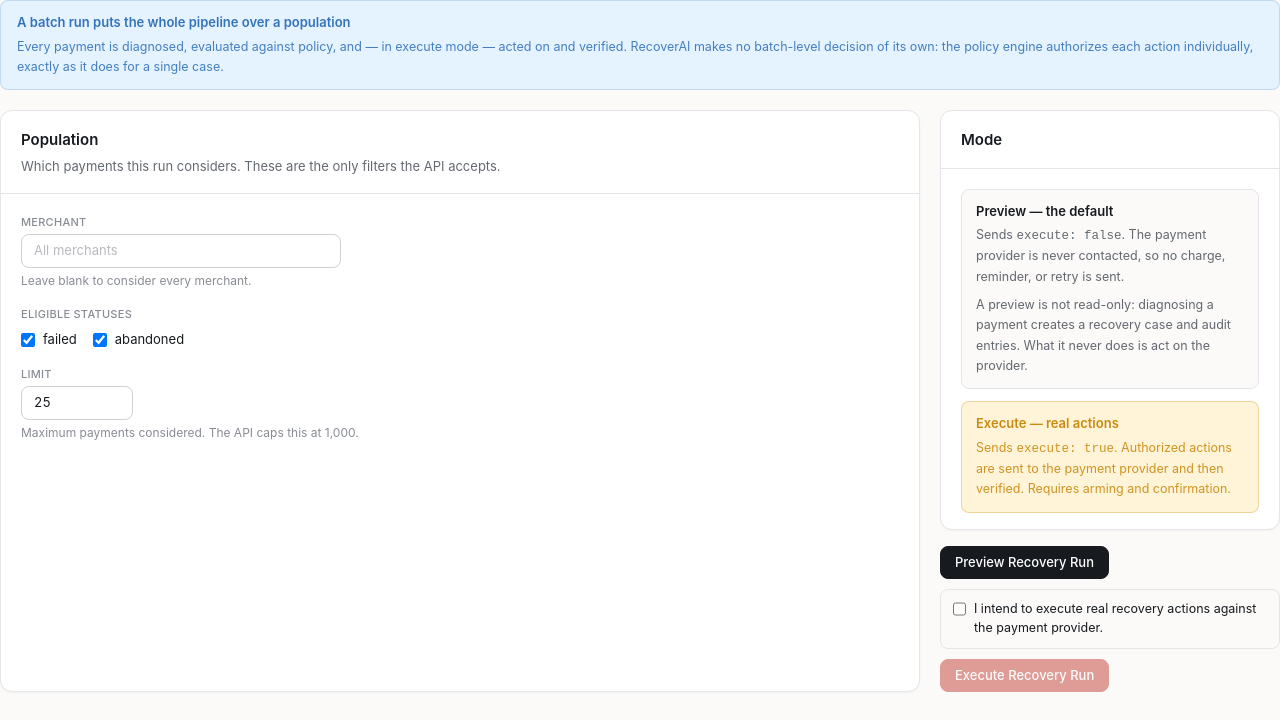
Scenario: Batch Recovery — execute requires explicit confirmation › arming alone does not execute; a confirmation dialog is required
Click the checkbox labelled "intend to execute". click: (960, 609)
box: left=953, top=602, right=966, bottom=616
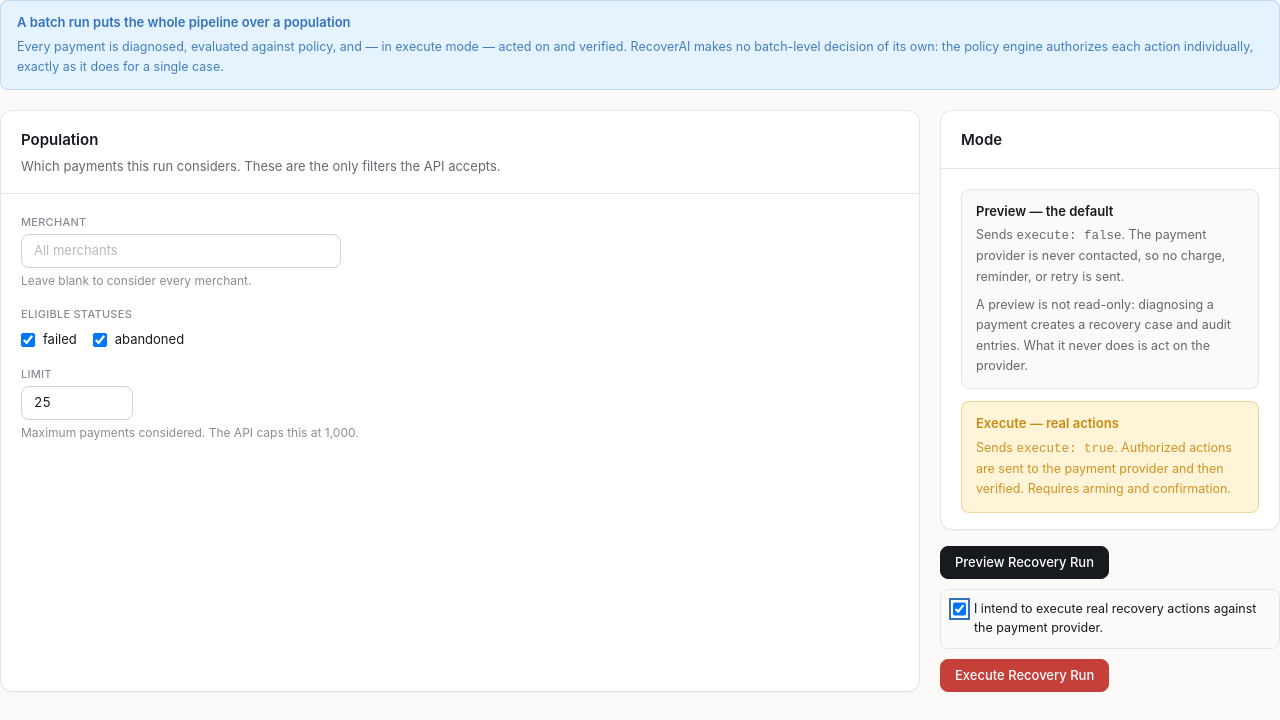
Click the button "Execute Recovery Run". click: (1025, 676)
box: left=940, top=659, right=1109, bottom=692
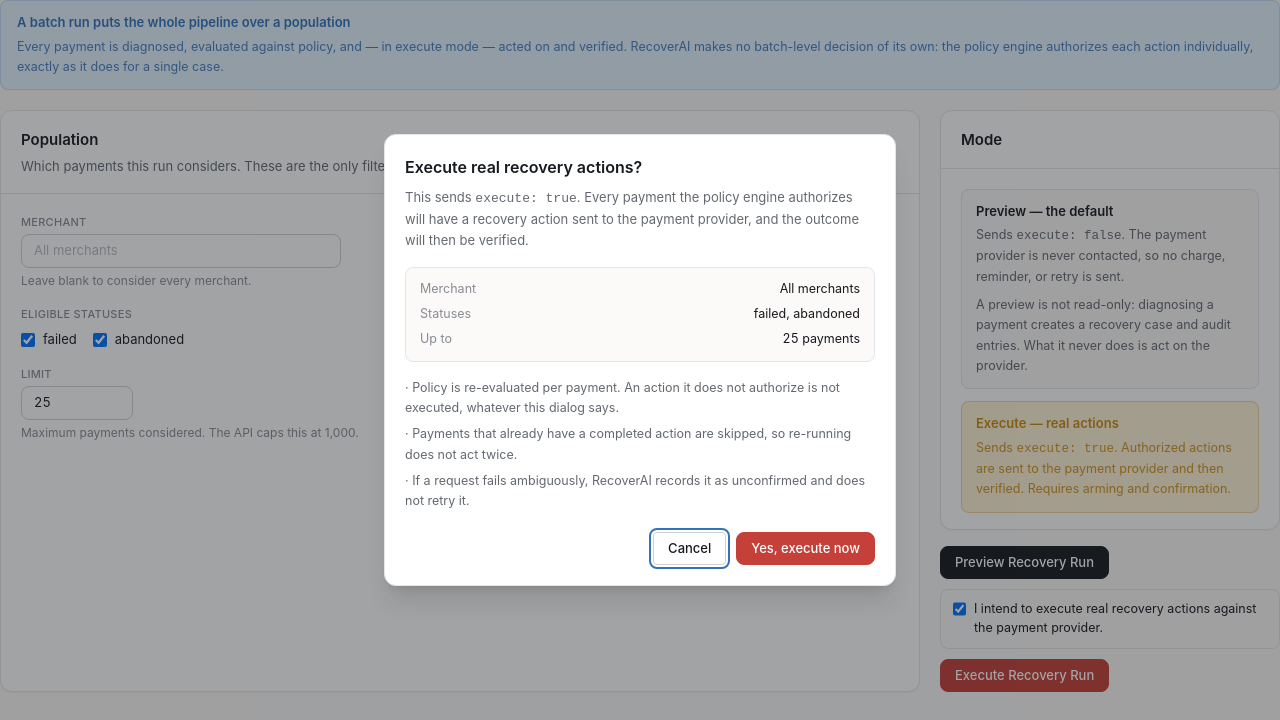
Expected: the dialog is shown, left=384, top=134, right=896, bottom=586
